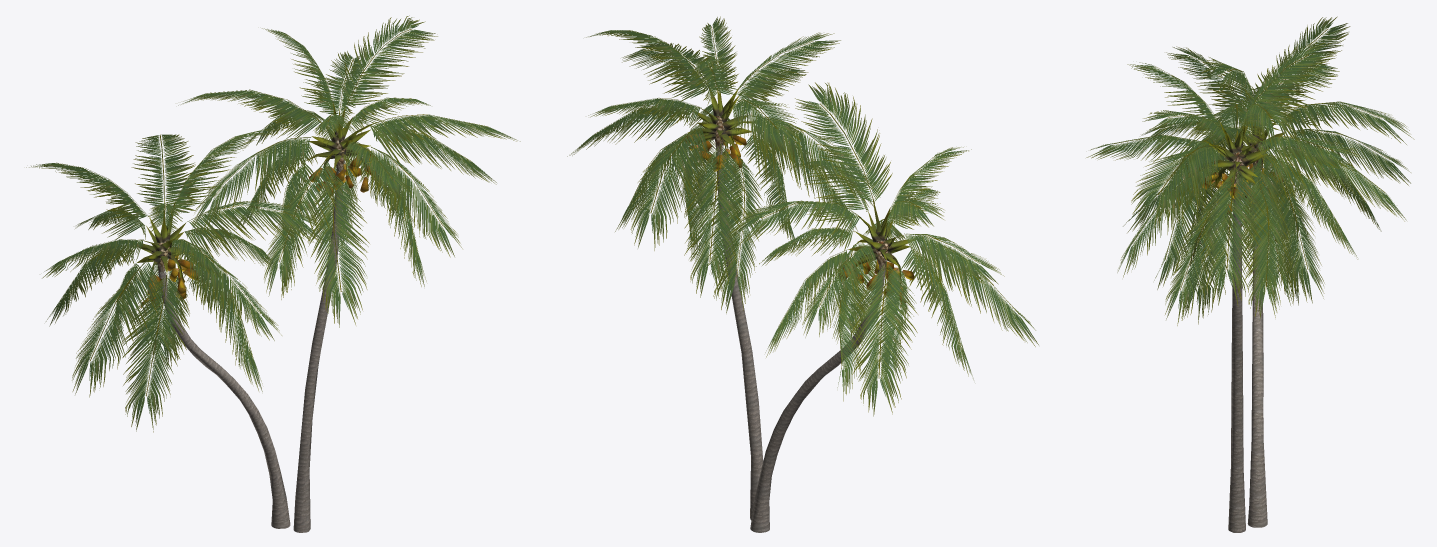
File: palm-0-mid.glb
3 views of the same model, side by side, from view 1: azimuth 30°, elevation 25°; view 2: azimuth 150°, elevation 25°; view 3: azimuth 270°, elevation 25° (orthographic). The views are drawn at different scales.
Parts seen in each view (by area): view 1: Tree_2_Tree_2Mat_0, Tree_0_Tree_0Mat_0, Tree_3_Tree_3Mat_0, Tree_4_Tree_4Mat_0; view 2: Tree_2_Tree_2Mat_0, Tree_0_Tree_0Mat_0, Tree_3_Tree_3Mat_0, Tree_4_Tree_4Mat_0; view 3: Tree_2_Tree_2Mat_0, Tree_0_Tree_0Mat_0, Tree_3_Tree_3Mat_0, Tree_4_Tree_4Mat_0.
Part boxes in pixels (left/top/right/bottom): Tree_2_Tree_2Mat_0: left=26, top=15, right=520, bottom=432; Tree_0_Tree_0Mat_0: left=158, top=170, right=343, bottom=532; Tree_3_Tree_3Mat_0: left=133, top=102, right=376, bottom=282; Tree_4_Tree_4Mat_0: left=141, top=154, right=378, bottom=307; Tree_2_Tree_2Mat_0: left=567, top=16, right=1038, bottom=416; Tree_0_Tree_0Mat_0: left=716, top=150, right=885, bottom=532; Tree_3_Tree_3Mat_0: left=687, top=84, right=916, bottom=283; Tree_4_Tree_4Mat_0: left=684, top=134, right=914, bottom=304; Tree_2_Tree_2Mat_0: left=1086, top=16, right=1414, bottom=325; Tree_0_Tree_0Mat_0: left=1228, top=187, right=1267, bottom=532; Tree_3_Tree_3Mat_0: left=1204, top=120, right=1286, bottom=202; Tree_4_Tree_4Mat_0: left=1202, top=163, right=1283, bottom=213.
Size of the model in its own units: 10.02 by 10 by 6.4.
5 materials, 5 textured.
